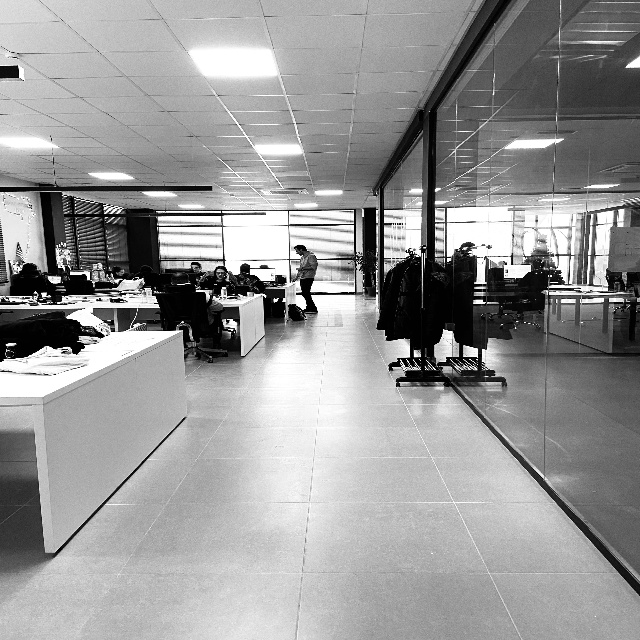Sin_guantes: (223, 272, 229, 282), (295, 267, 302, 271)
